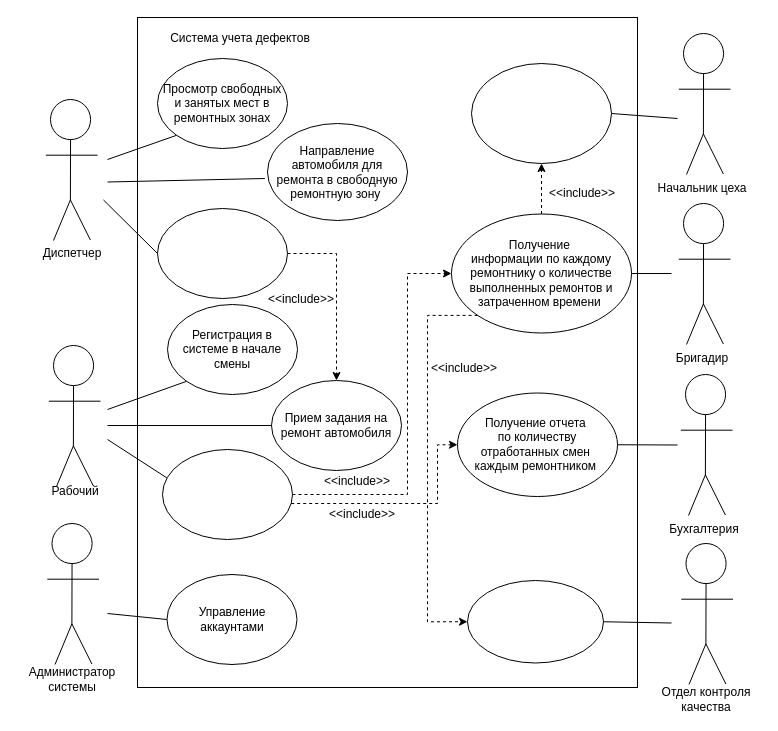
Image size: 778x731. Some labels were removed from this diagram. The box of each missing label's shape, as (x1, y1, x2, y2) in pixels:
Назначение ремонта конкретному рабочему: (156, 208, 288, 298)
Получение отчета об общем количестве и суммарном времени ремонтов: (470, 62, 612, 164)
Получение сводного отчета по выполненным ремонтам: (466, 580, 604, 663)
Регистрация выполненного ремонта: (162, 448, 292, 540)
